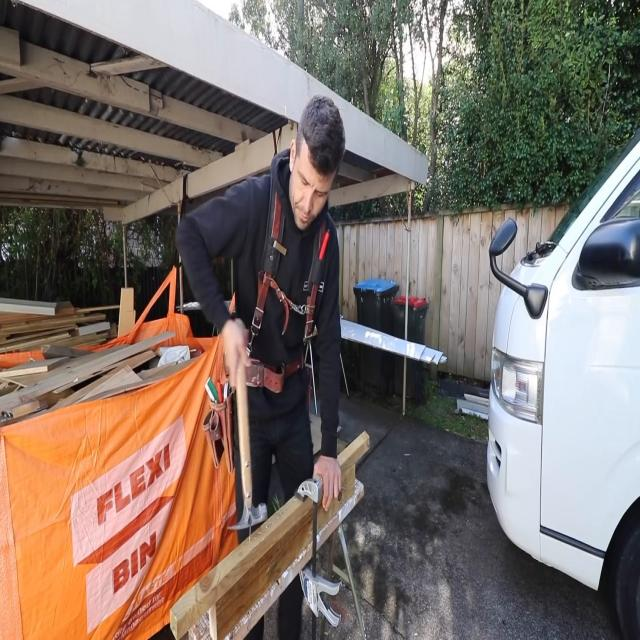hammer: (228, 344, 268, 537)
